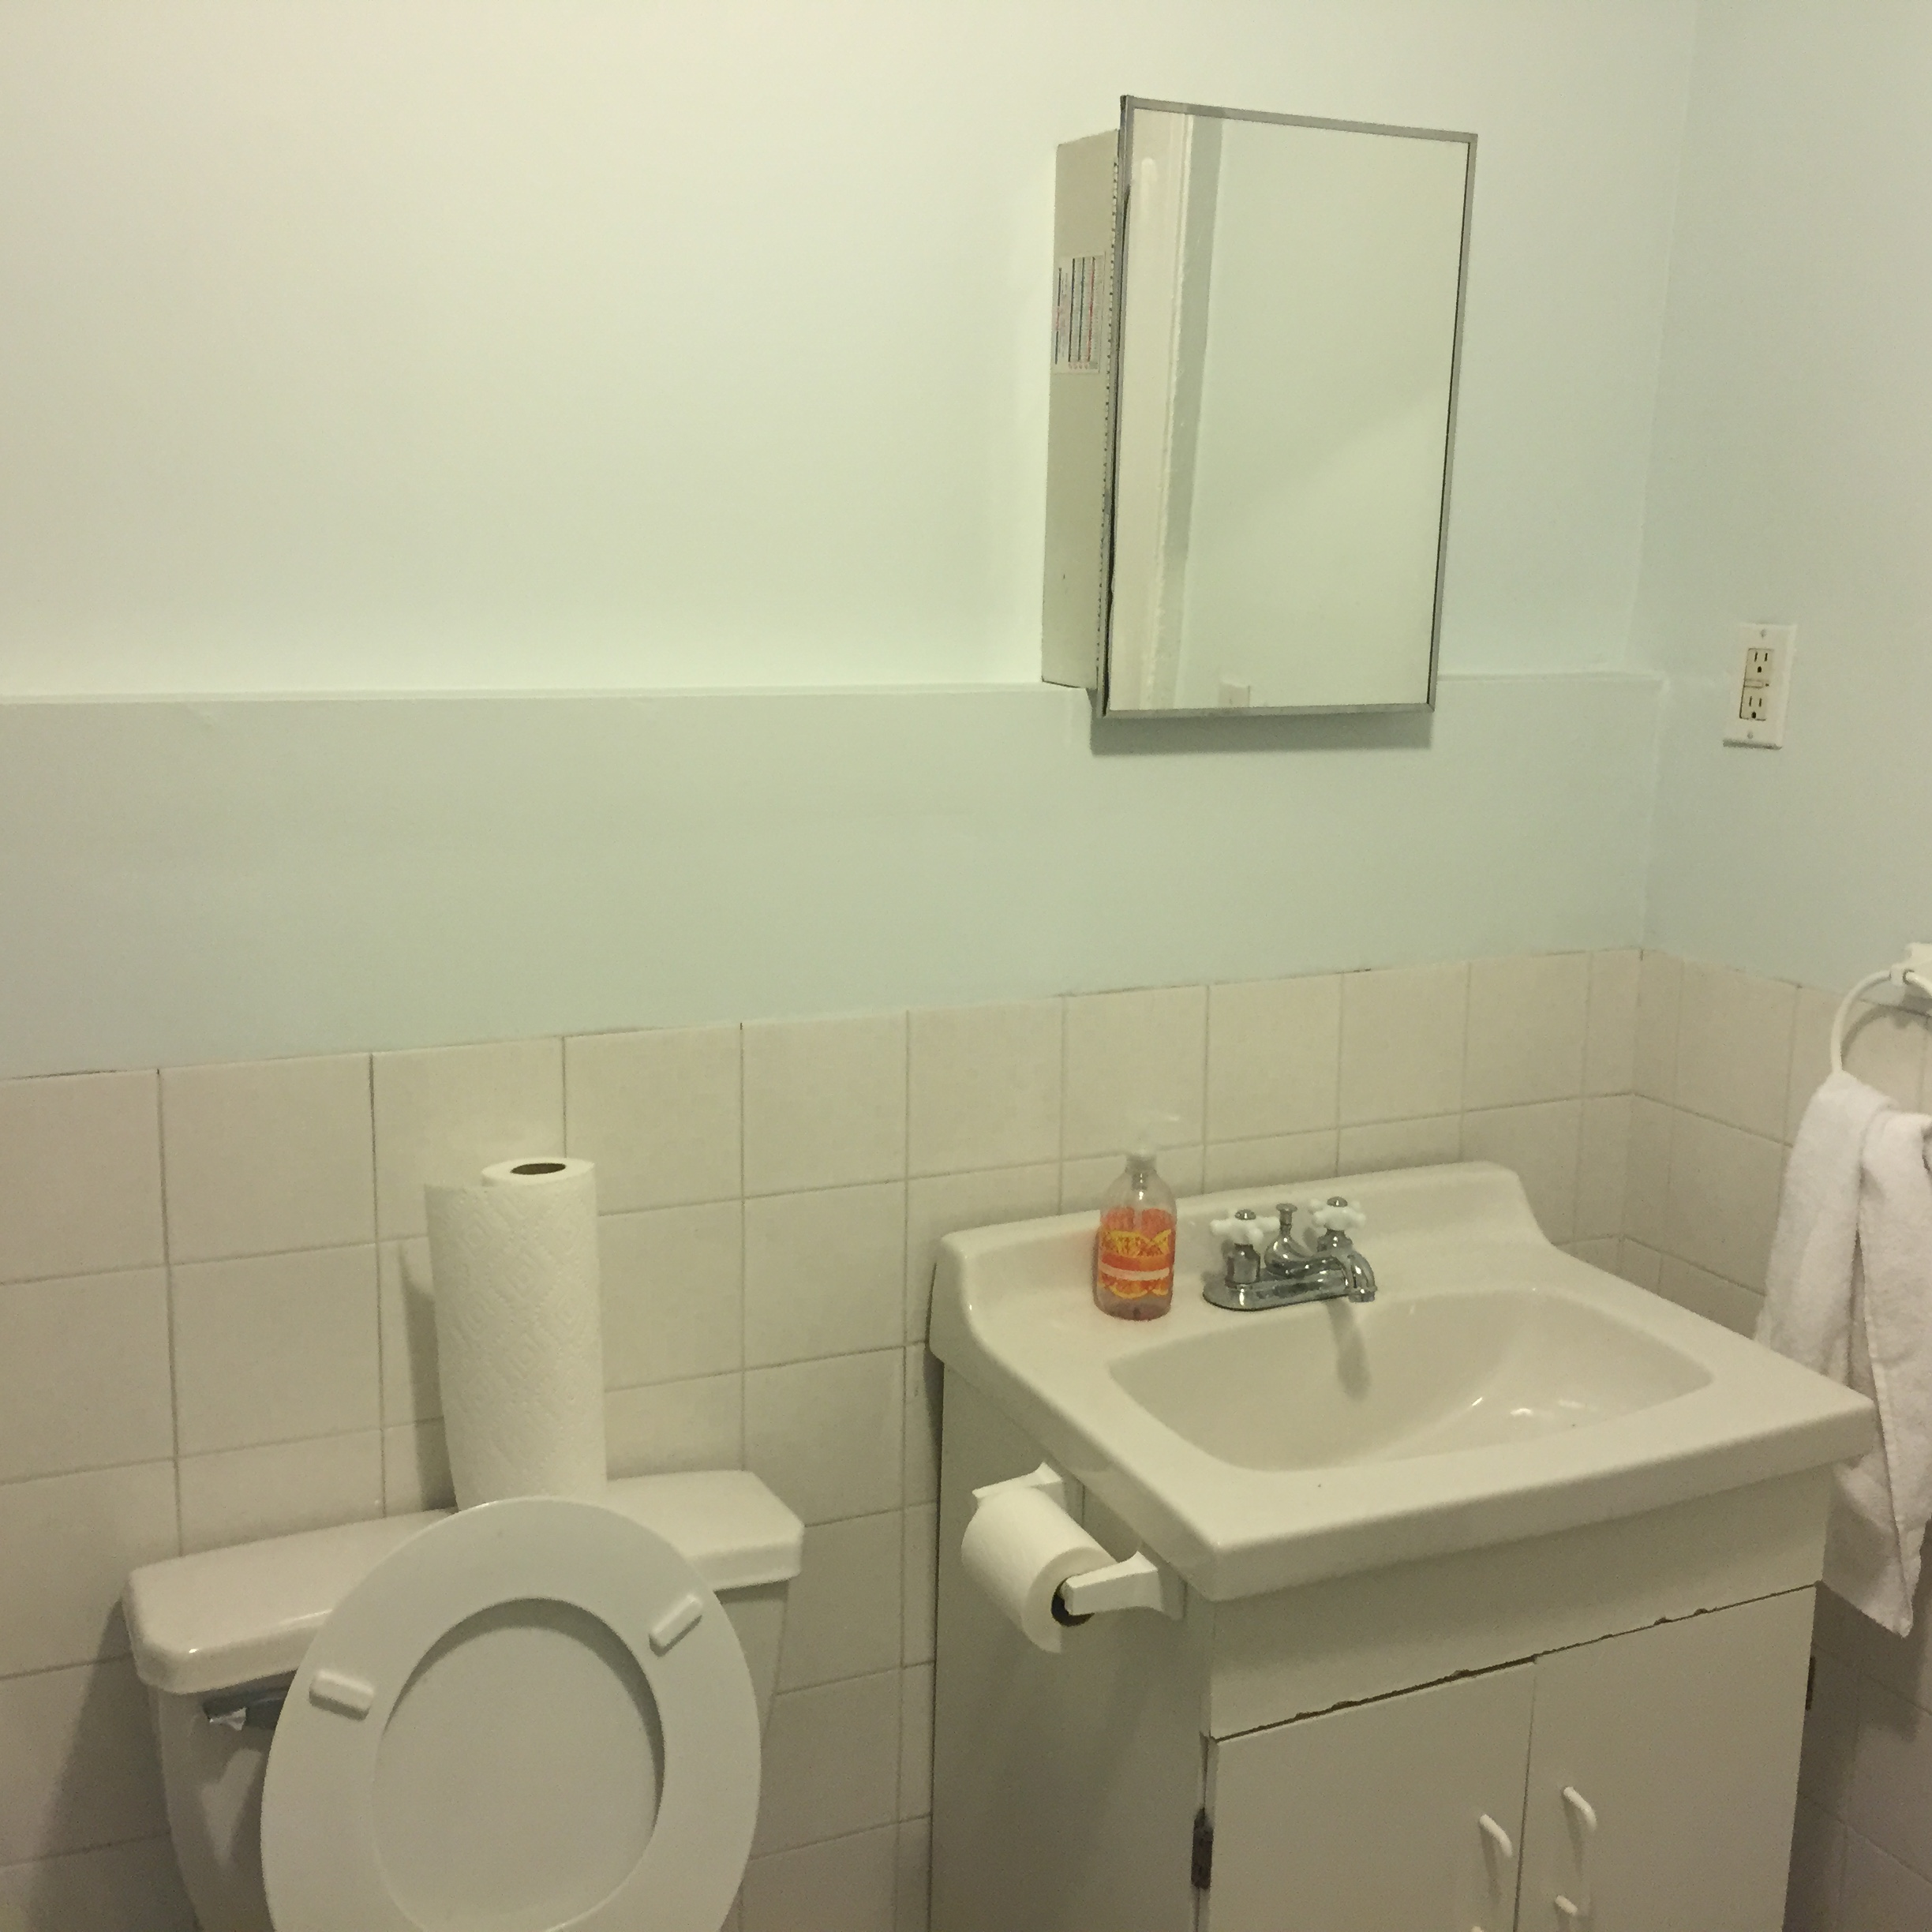counter: (888, 1230, 1879, 1932)
dispenser: (957, 1451, 1192, 1663), (1088, 1108, 1192, 1327)
faucet: (1205, 1192, 1380, 1311)
handle: (1435, 1766, 1537, 1932), (1559, 1746, 1610, 1932)
sink: (1120, 1228, 1668, 1460)
toilet: (129, 1465, 803, 1932)
toilet_handle: (196, 1683, 301, 1744)
